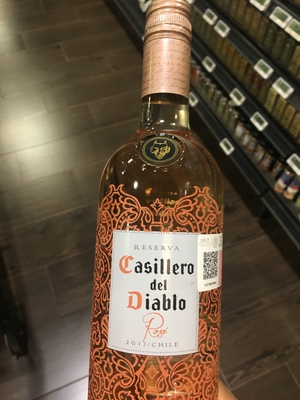casillero del diablo rose: (85, 6, 235, 400)
